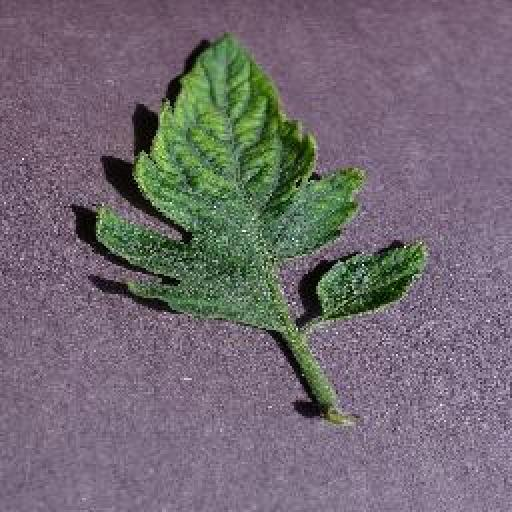Mosaic Virus: (96, 34, 426, 332)
